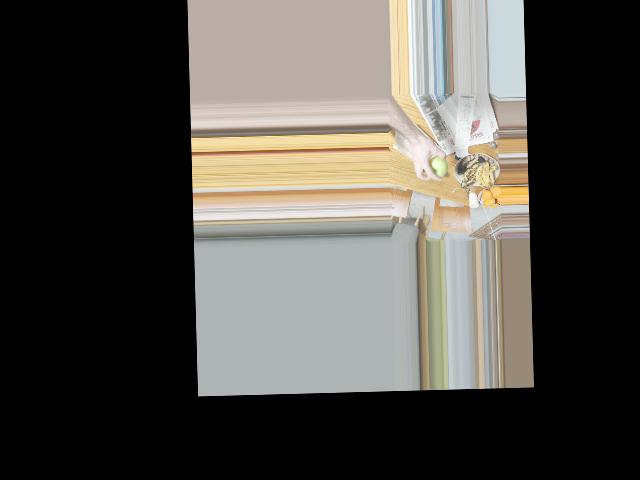apple: (424, 151, 447, 181)
